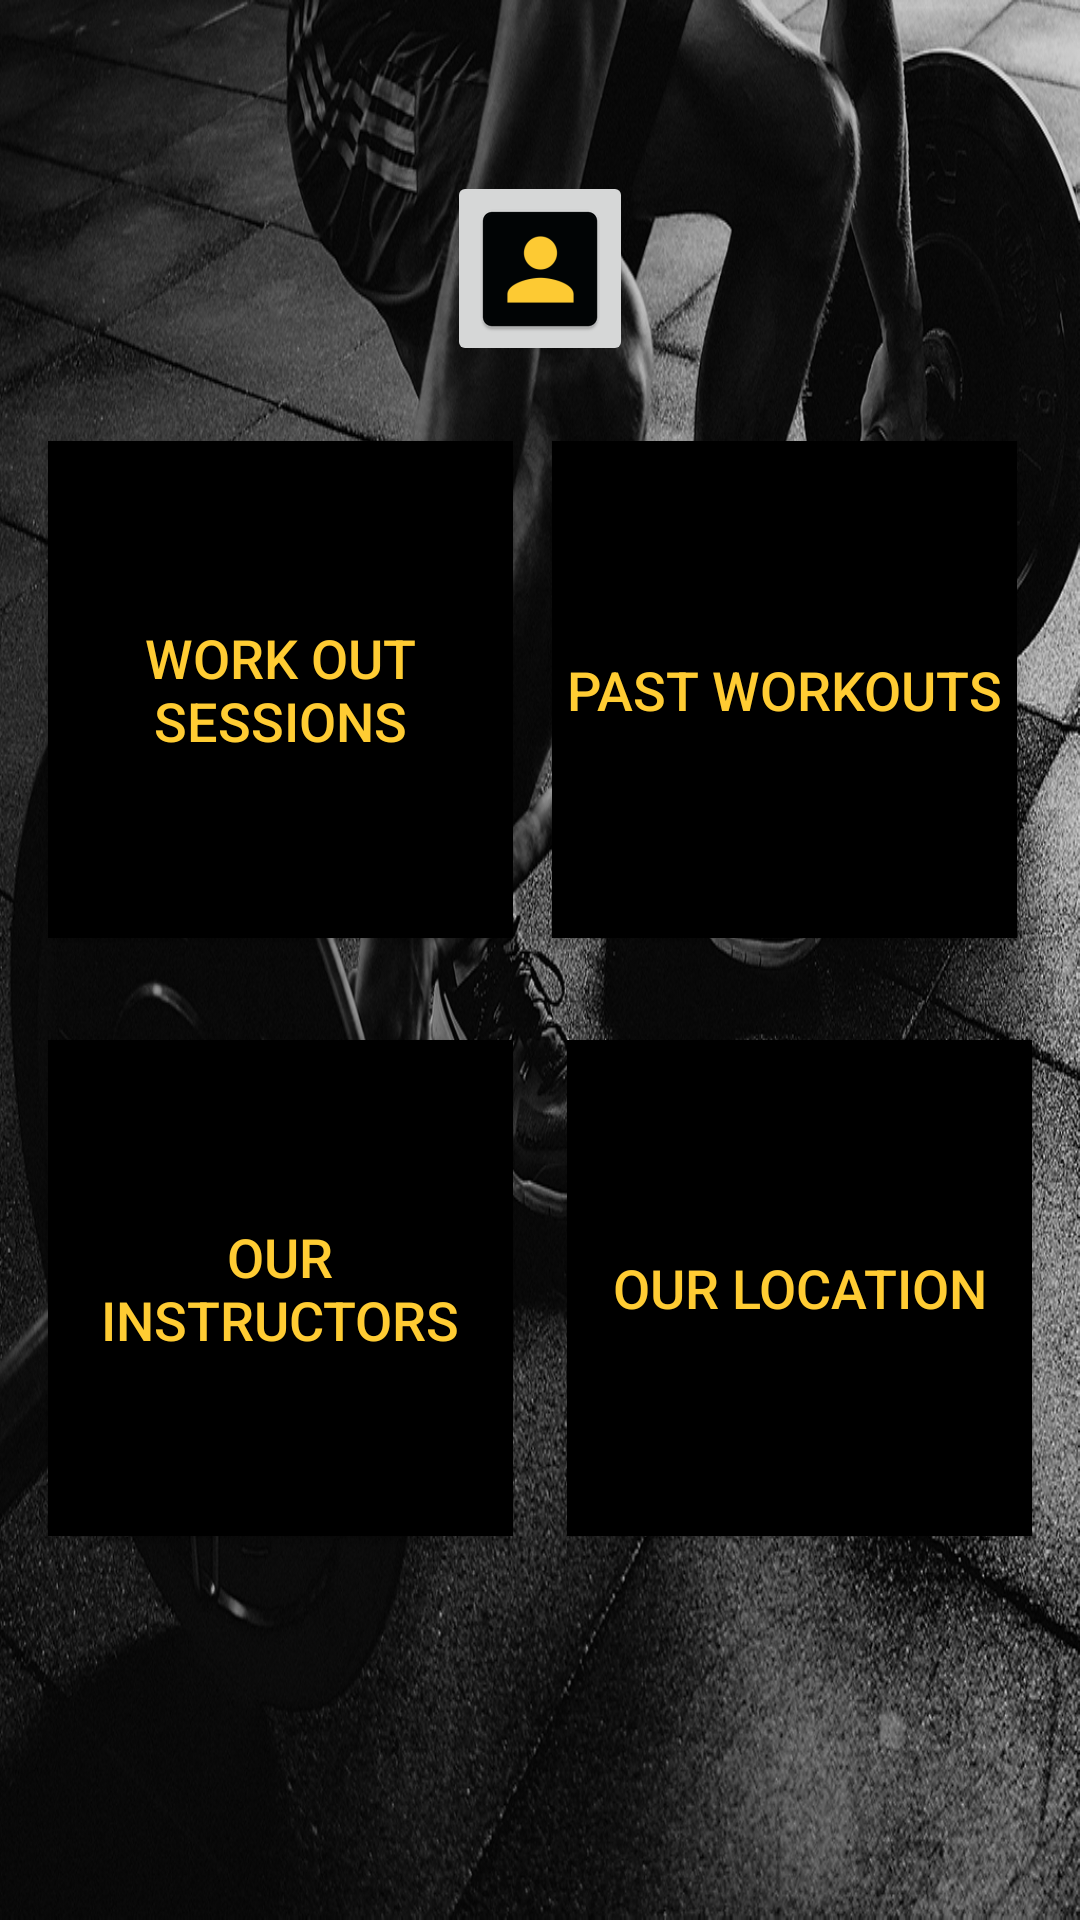

Icon bounding boxes for this 1080px x 1920px phone screenshot, format (x1, y1, x2, y2):
prof: (447, 171, 633, 366)
